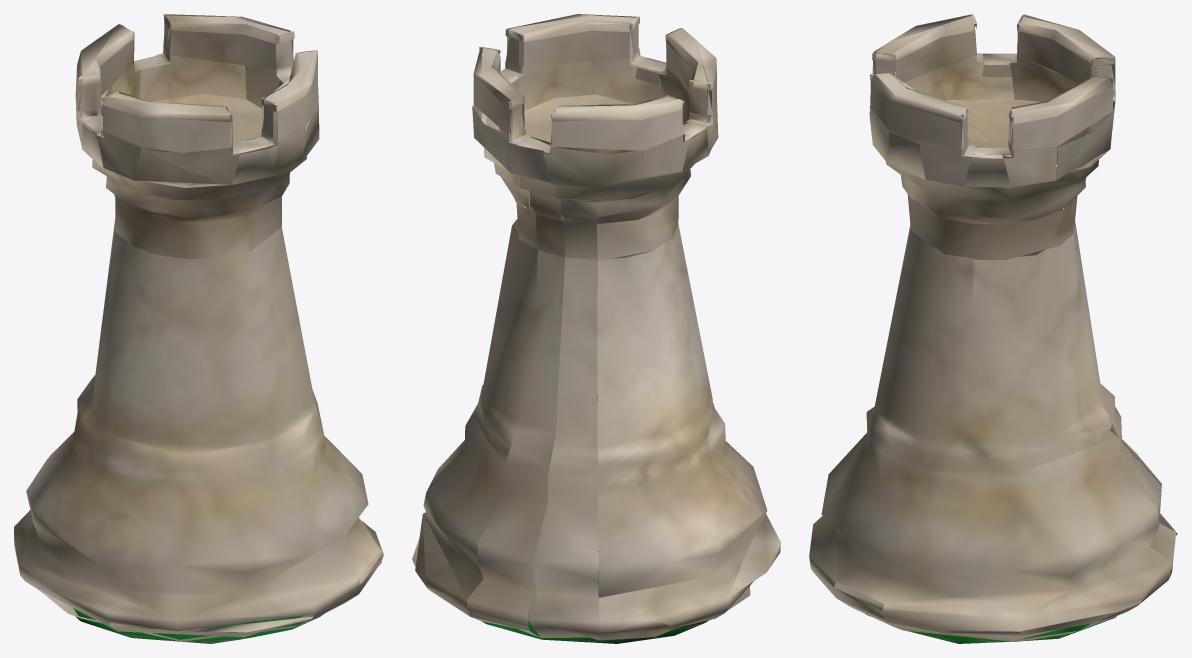
The picture shows the model from 3 angles, left to right: view 1: azimuth 30°, elevation 25°; view 2: azimuth 150°, elevation 25°; view 3: azimuth 270°, elevation 25°; orthographic projection.
Visible parts, largest first — view 1: WR.001; view 2: WR.001; view 3: WR.001.
Part boxes in pixels (bbox=[...]): WR.001: bbox=[14, 14, 383, 643]; WR.001: bbox=[412, 14, 780, 643]; WR.001: bbox=[809, 14, 1177, 643].
Size of the model in its own units: 0.0372 by 0.0588 by 0.0376.
1 material, 1 textured.
